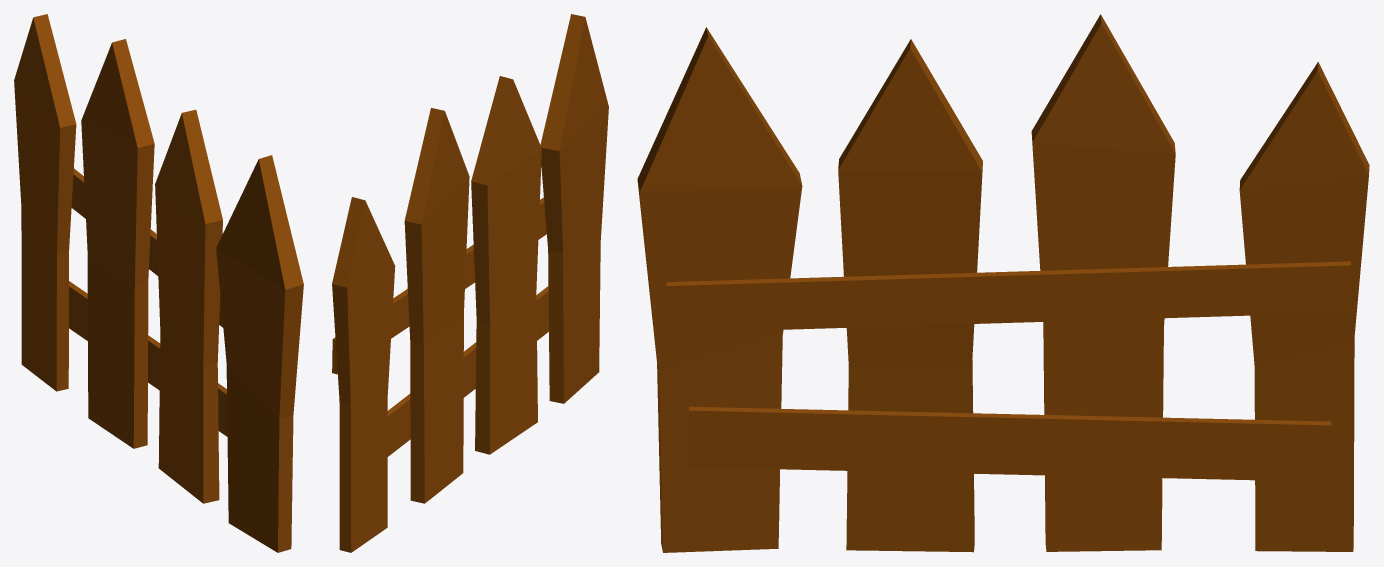
File: cerca_madeira.fbx
3 views of the same model, side by side, from view 1: azimuth 30°, elevation 25°; view 2: azimuth 150°, elevation 25°; view 3: azimuth 270°, elevation 25° (orthographic). The views are drawn at different scales.
Visible parts, largest first — view 1: Cube, Cube.002; view 2: Cube, Cube.002; view 3: Cube, Cube.002.
Boxes of the visible parts, x1=… form: Cube: x1=14, y1=14, x2=303, y2=552; Cube.002: x1=69, y1=168, x2=227, y2=436; Cube: x1=332, y1=14, x2=608, y2=552; Cube.002: x1=332, y1=197, x2=548, y2=456; Cube: x1=637, y1=14, x2=1369, y2=552; Cube.002: x1=666, y1=261, x2=1352, y2=481.
Bounding box in the file's own units: 24.85 × 297 × 373.
